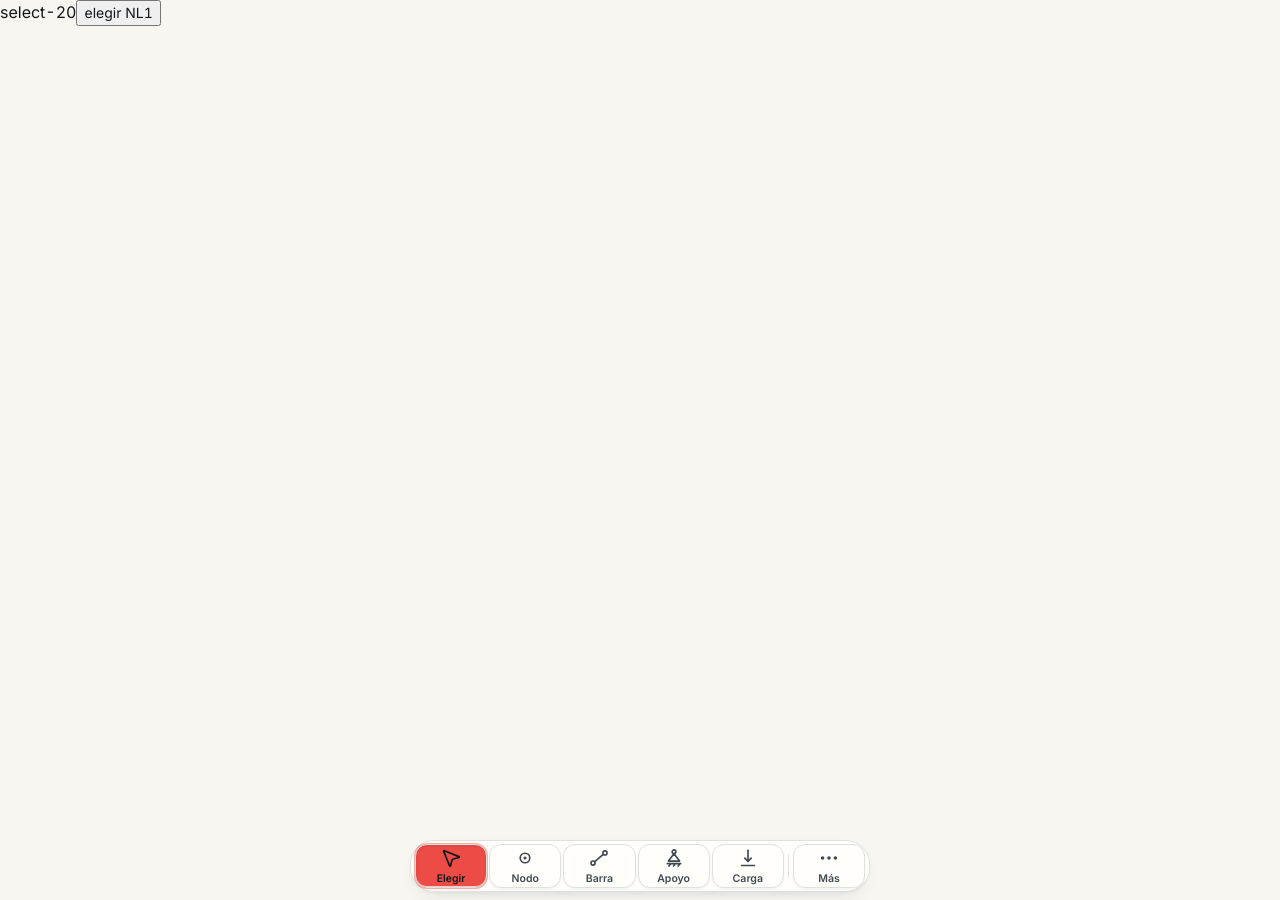
Test: dock dinámico › la hoja mantiene el teclado dentro y devuelve el foco al cerrar
Step 1. Click the button with aria-label "Más herramientas" → (829, 866), box [793,844,865,888]
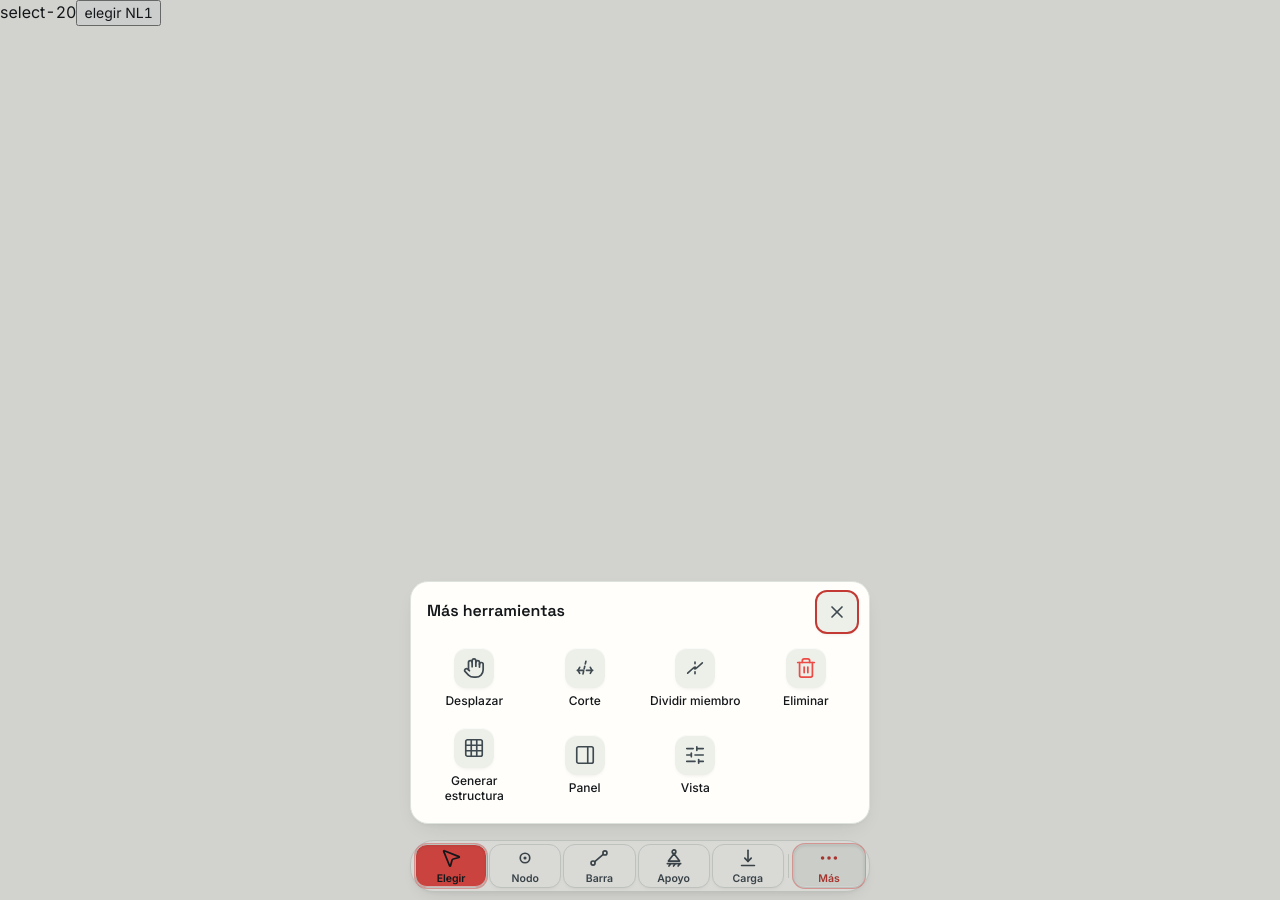
Step 2. Press Shift+Tab
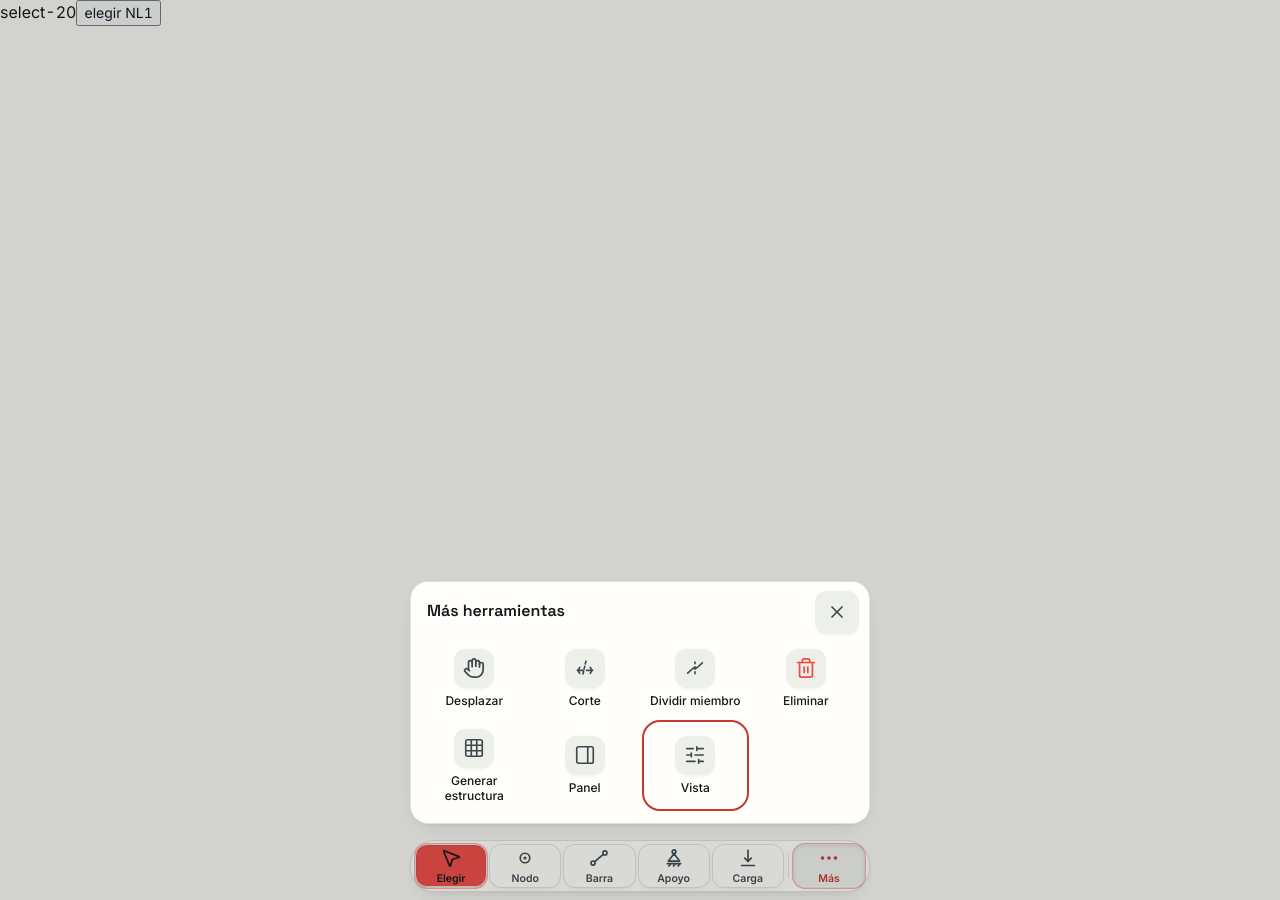
Step 3. Press Tab
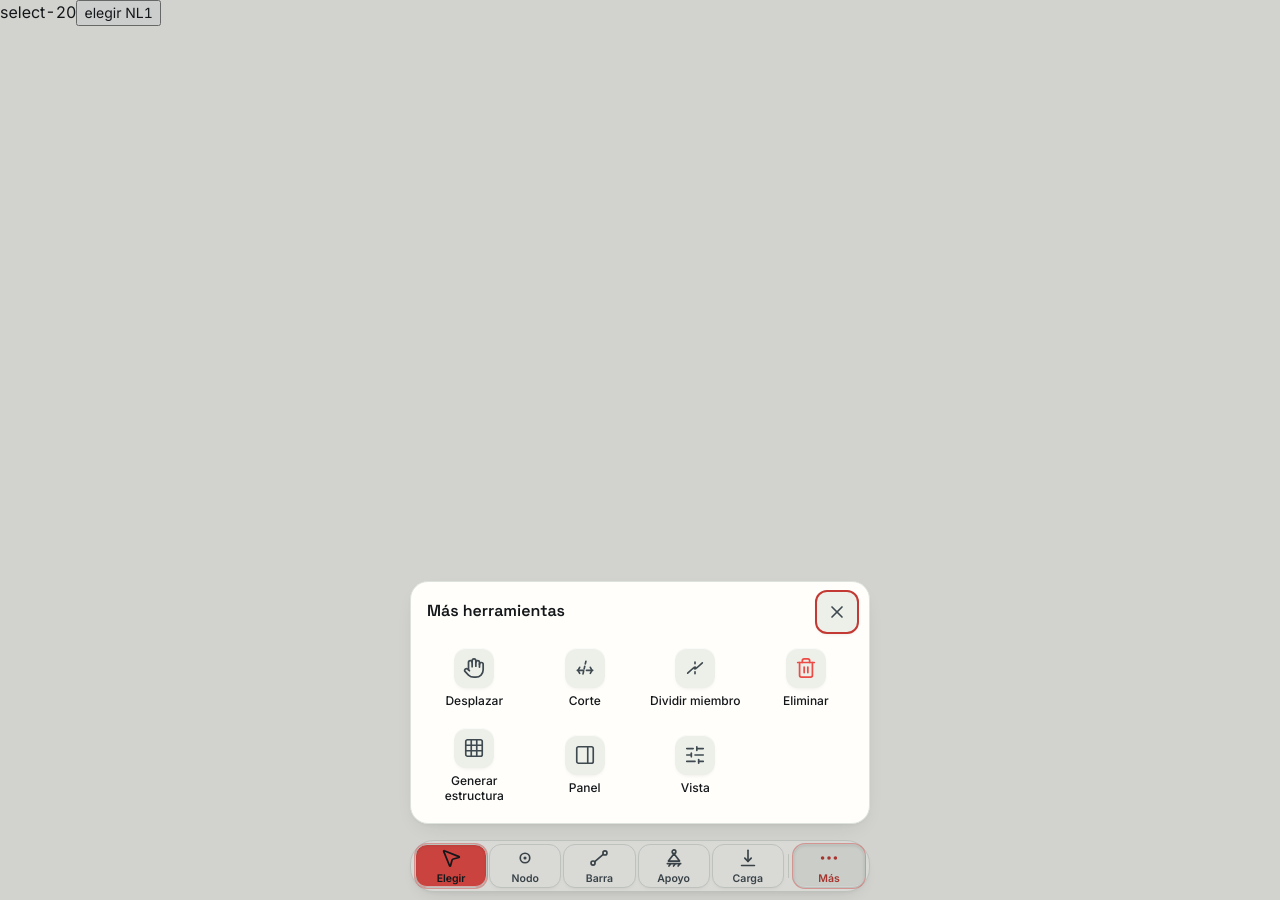
Step 4. Press Escape
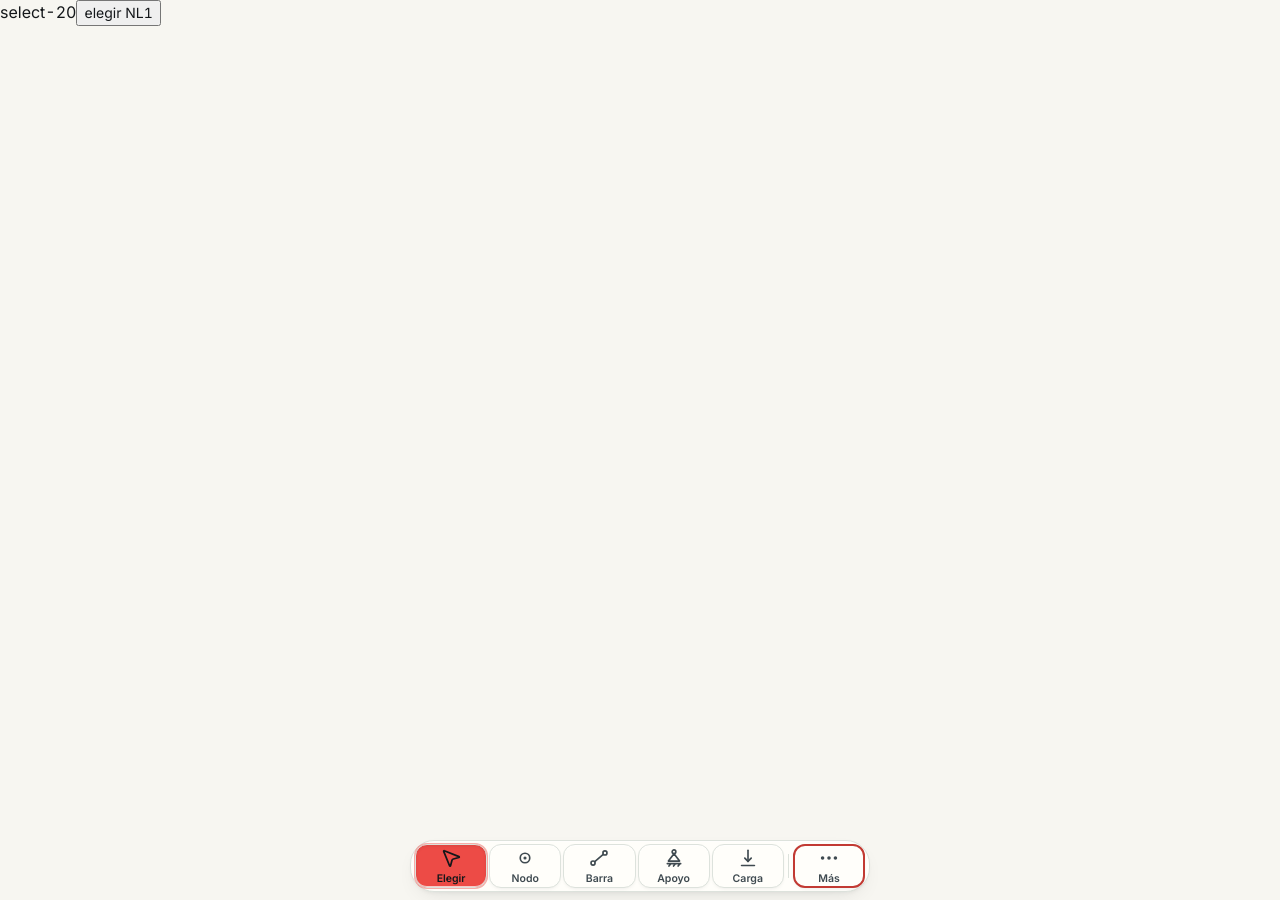
Result: the text "Más herramientas" is gone
Step 5. Click the button with aria-label "Más herramientas" → (829, 866), box [793,844,865,888]
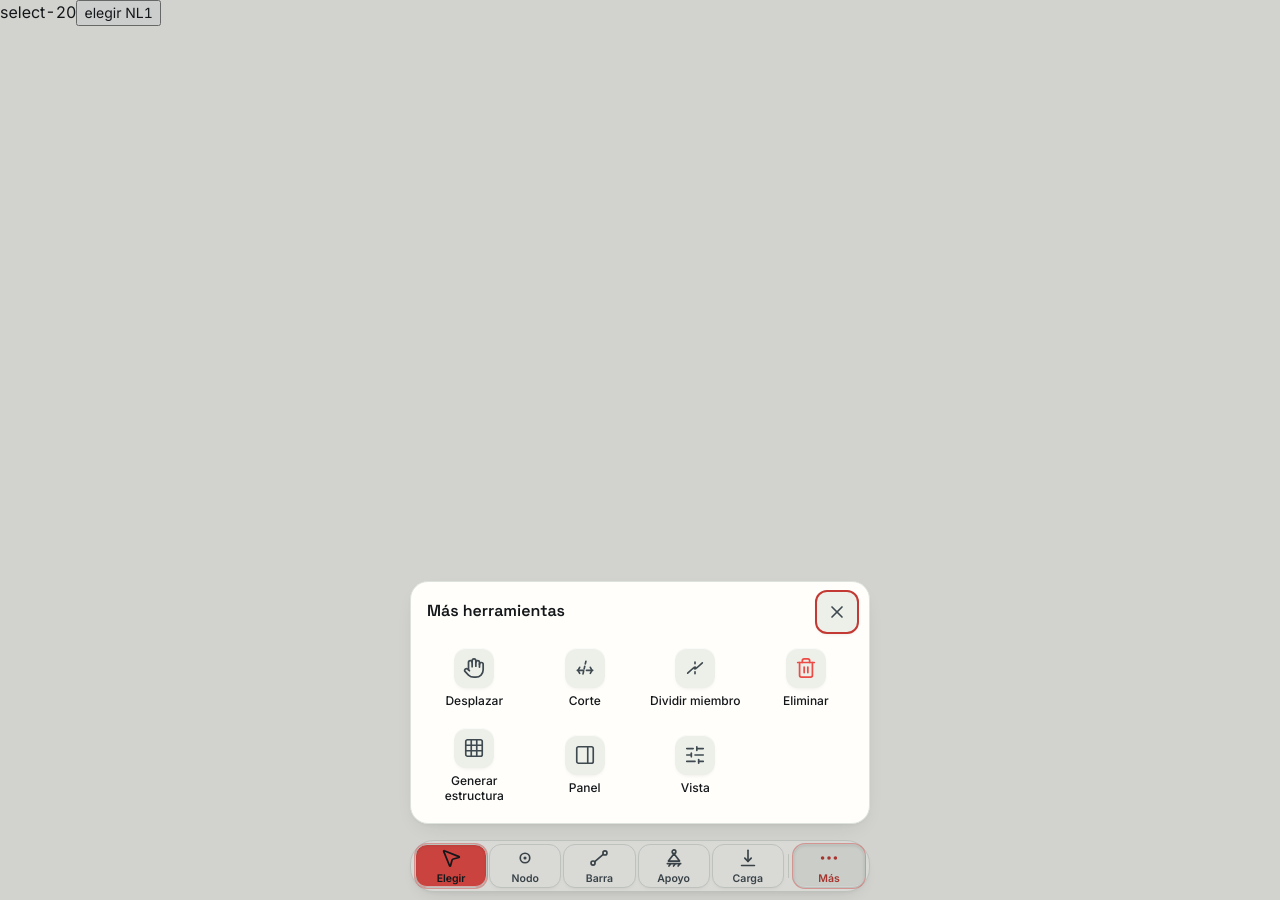
Step 6. Click the button named "Cerrar" → (837, 612), box [815,590,859,634]
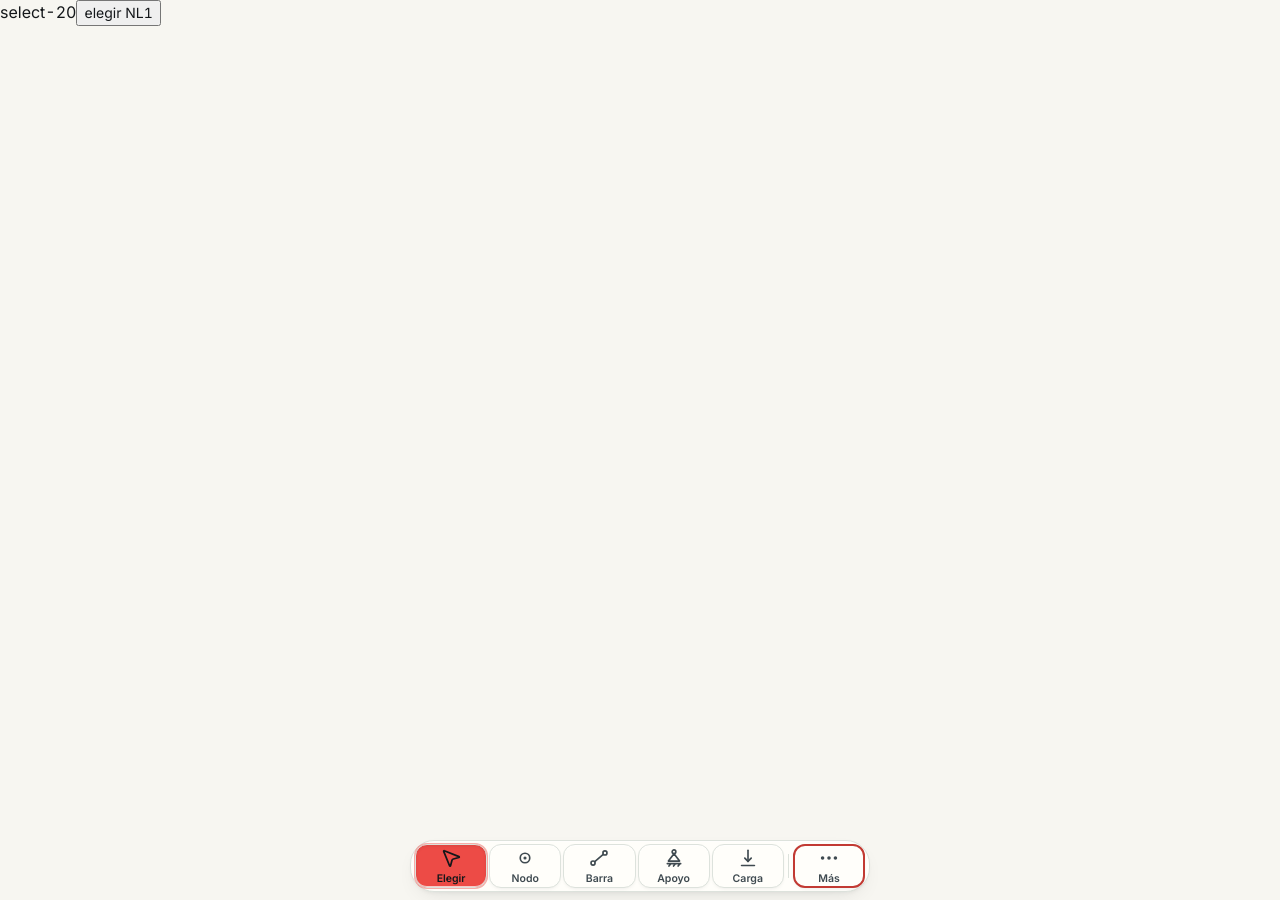
Result: the text "Más herramientas" is gone
